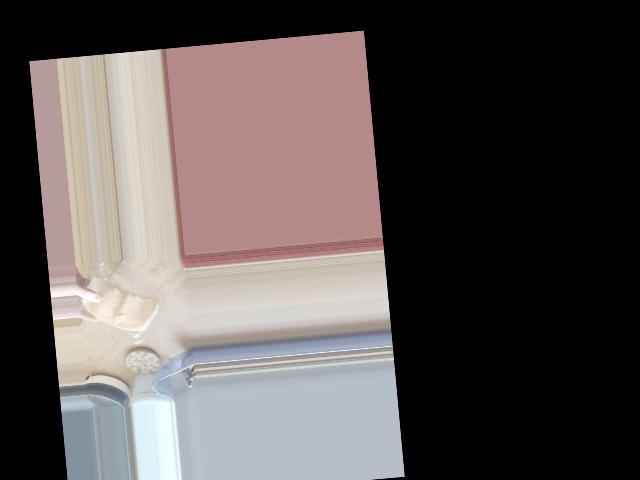cheese: (81, 257, 179, 355)
